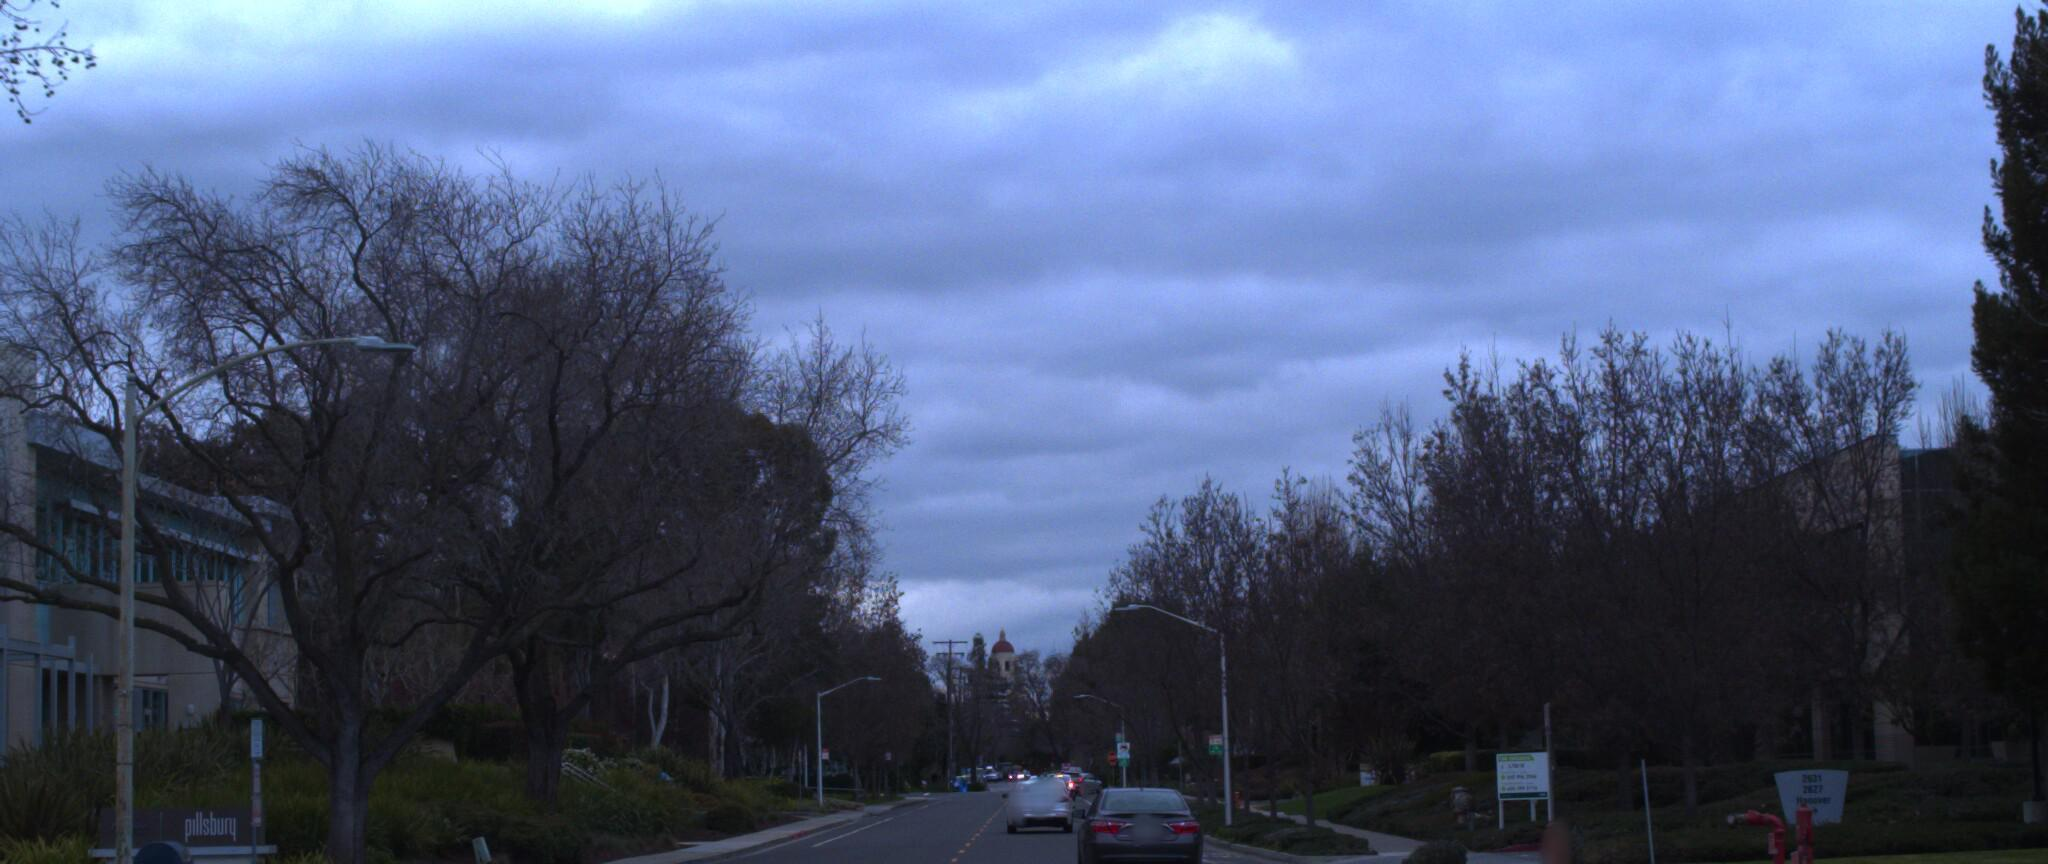car: (1066, 782, 1198, 864), (997, 771, 1072, 822)
